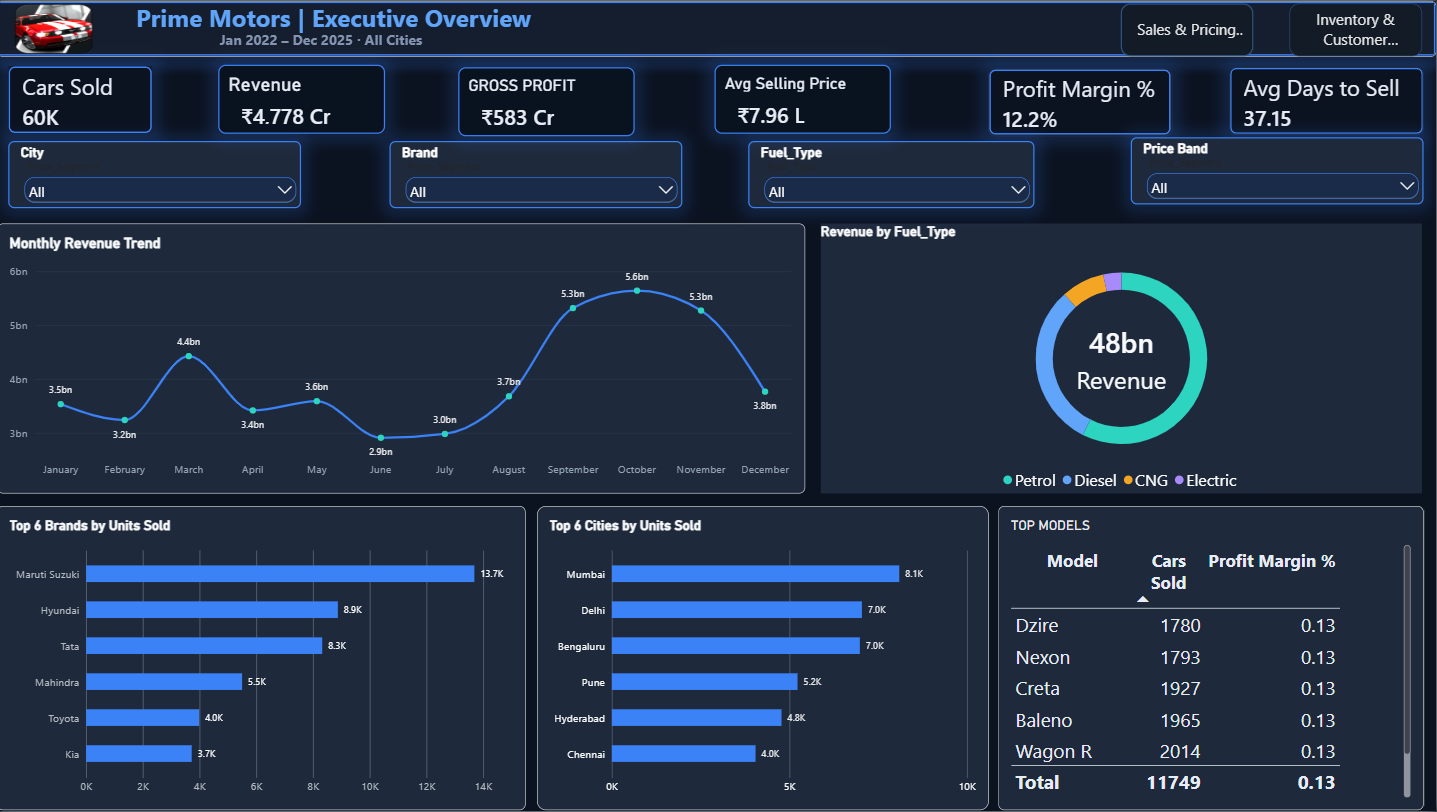

The dashboard page shown, as its layout file describes it:
{"tool":"powerbi","page":{"name":"Executive Overview","canvas":[1920,1080],"ordinal":0},"visuals":[{"type":"shape","box":[0,0,1920.4,74.1],"z":0},{"type":"textbox","box":[150.2,0,656.2,73.9],"z":1000},{"type":"textbox","box":[296.2,38.3,319.1,35.7],"z":3000},{"type":"cardVisual","fields":{"Data":["ABC_Motors_Used_Car_Sales.Profit Margin %"]},"box":[1321.4,90.6,245.7,90],"z":7000},{"type":"cardVisual","fields":{"Data":["ABC_Motors_Used_Car_Sales.Avg Days to Sell"]},"box":[1642.5,88.5,259.3,90.6],"z":8000},{"type":"cardVisual","fields":{"Data":["ABC_Motors_Used_Car_Sales.Cars Sold"]},"box":[15.3,86.8,192,90],"z":10000},{"type":"lineChart","title":"Monthly Revenue Trend","fields":{"Category":["ABC_Motors_Used_Car_Sales.Sale_Date.Variation.Date Hierarchy.Month"],"Y":["ABC_Motors_Used_Car_Sales.Revenue"]},"box":[0,296.2,1077.4,360],"z":11000},{"type":"donutChart","title":"Revenue by Fuel_Type","fields":{"Category":["ABC_Motors_Used_Car_Sales.Fuel_Type"],"Y":["ABC_Motors_Used_Car_Sales.Revenue"]},"box":[1097.9,296.2,801.7,360],"z":12000},{"type":"barChart","title":"Top 6 Brands by Units Sold","fields":{"Category":["ABC_Motors_Used_Car_Sales.Brand"],"Y":["ABC_Motors_Used_Car_Sales.Cars Sold"]},"box":[0,674,704.7,406],"z":13000},{"type":"barChart","title":"Top 6 Cities by Units Sold","fields":{"Category":["ABC_Motors_Used_Car_Sales.Dealer_City"],"Y":["ABC_Motors_Used_Car_Sales.Cars Sold"]},"box":[720,674,602.6,406],"z":14000},{"type":"tableEx","title":"TOP MODELS","fields":{"Values":["ABC_Motors_Used_Car_Sales.Model","ABC_Motors_Used_Car_Sales.Cars Sold","ABC_Motors_Used_Car_Sales.Profit Margin %"]},"box":[1335.3,674,566.8,406],"z":15000},{"type":"image","box":[16.5,0,117.3,74.1],"z":15001},{"type":"slicer","title":"Fuel_Type","fields":{"Values":["ABC_Motors_Used_Car_Sales.Fuel_Type"]},"box":[1000.9,186.4,382,89.6],"z":15002},{"type":"slicer","title":"Brand","fields":{"Values":["ABC_Motors_Used_Car_Sales.Price_Segment"]},"box":[523.4,186.4,390.5,89.6],"z":15003},{"type":"slicer","title":"City","fields":{"Values":["ABC_Motors_Used_Car_Sales.Price_Segment"]},"box":[15.3,186.4,390.5,89.6],"z":15004},{"type":"slicer","title":"Price Band","fields":{"Values":["ABC_Motors_Used_Car_Sales.Price_Segment"]},"box":[1511.5,181.3,390.5,89.6],"z":15005},{"type":"cardVisual","title":"GROSS PROFIT","fields":{"Data":["ABC_Motors_Used_Car_Sales.Profit Text"]},"box":[614.6,87.8,234.9,91.9],"z":15006},{"type":"cardVisual","title":"Revenue","fields":{"Data":["ABC_Motors_Used_Car_Sales.Revenue Text"]},"box":[295.1,85.5,222.4,91.9],"z":15007},{"type":"cardVisual","title":"Avg Selling Price","fields":{"Data":["ABC_Motors_Used_Car_Sales.Avg Price Text"]},"box":[956.5,85.5,234.9,91.9],"z":15008},{"type":"actionButton","box":[1498.3,3.3,176.7,70],"z":15009},{"type":"actionButton","box":[1723.3,3.3,176.7,70],"z":15010}]}

Visuals, with their boxes in screenshot pixels (x1, y1, x2, y2), scaled from the page's 1920x1080 canvas onto the 1437x812 screenshot:
shape: x1=0, y1=0, x2=1436, y2=56
textbox: x1=112, y1=0, x2=604, y2=56
textbox: x1=222, y1=29, x2=461, y2=56
cardVisual - ABC_Motors_Used_Car_Sales.Profit Margin %: x1=989, y1=68, x2=1173, y2=136
cardVisual - ABC_Motors_Used_Car_Sales.Avg Days to Sell: x1=1229, y1=67, x2=1423, y2=135
cardVisual - ABC_Motors_Used_Car_Sales.Cars Sold: x1=11, y1=65, x2=155, y2=133
"Monthly Revenue Trend" lineChart: x1=0, y1=223, x2=806, y2=493
"Revenue by Fuel_Type" donutChart: x1=822, y1=223, x2=1422, y2=493
"Top 6 Brands by Units Sold" barChart: x1=0, y1=507, x2=527, y2=811
"Top 6 Cities by Units Sold" barChart: x1=539, y1=507, x2=990, y2=811
"TOP MODELS" tableEx: x1=999, y1=507, x2=1424, y2=811
image: x1=12, y1=0, x2=100, y2=56
"Fuel_Type" slicer: x1=749, y1=140, x2=1035, y2=208
"Brand" slicer: x1=392, y1=140, x2=684, y2=208
"City" slicer: x1=11, y1=140, x2=304, y2=208
"Price Band" slicer: x1=1131, y1=136, x2=1424, y2=204
"GROSS PROFIT" cardVisual: x1=460, y1=66, x2=636, y2=135
"Revenue" cardVisual: x1=221, y1=64, x2=387, y2=133
"Avg Selling Price" cardVisual: x1=716, y1=64, x2=892, y2=133
actionButton: x1=1121, y1=2, x2=1254, y2=55
actionButton: x1=1290, y1=2, x2=1422, y2=55
